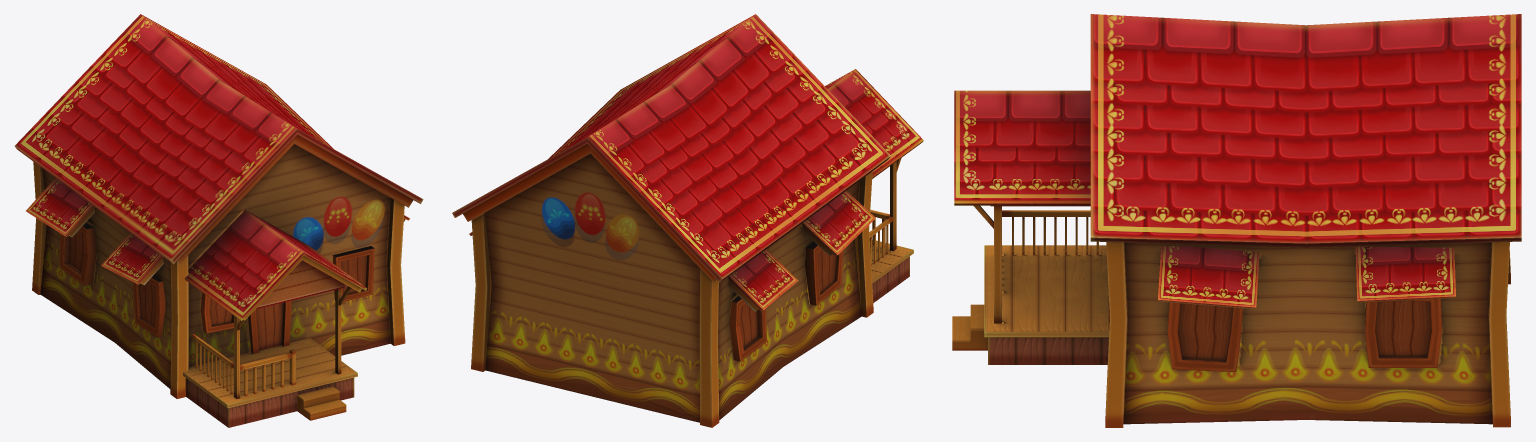
Rendered from House_08.FBX.
3 views of the same model, side by side, from view 1: azimuth 30°, elevation 25°; view 2: azimuth 150°, elevation 25°; view 3: azimuth 270°, elevation 25° (orthographic). The views are drawn at different scales.
Parts seen in each view (by area): view 1: House_08; view 2: House_08; view 3: House_08.
Part boxes in pixels (x1,y1,x2,y2): House_08: (14,14,423,427); House_08: (452,14,923,427); House_08: (952,14,1521,427).
Bounding box in the file's own units: 176 × 149 × 228.
